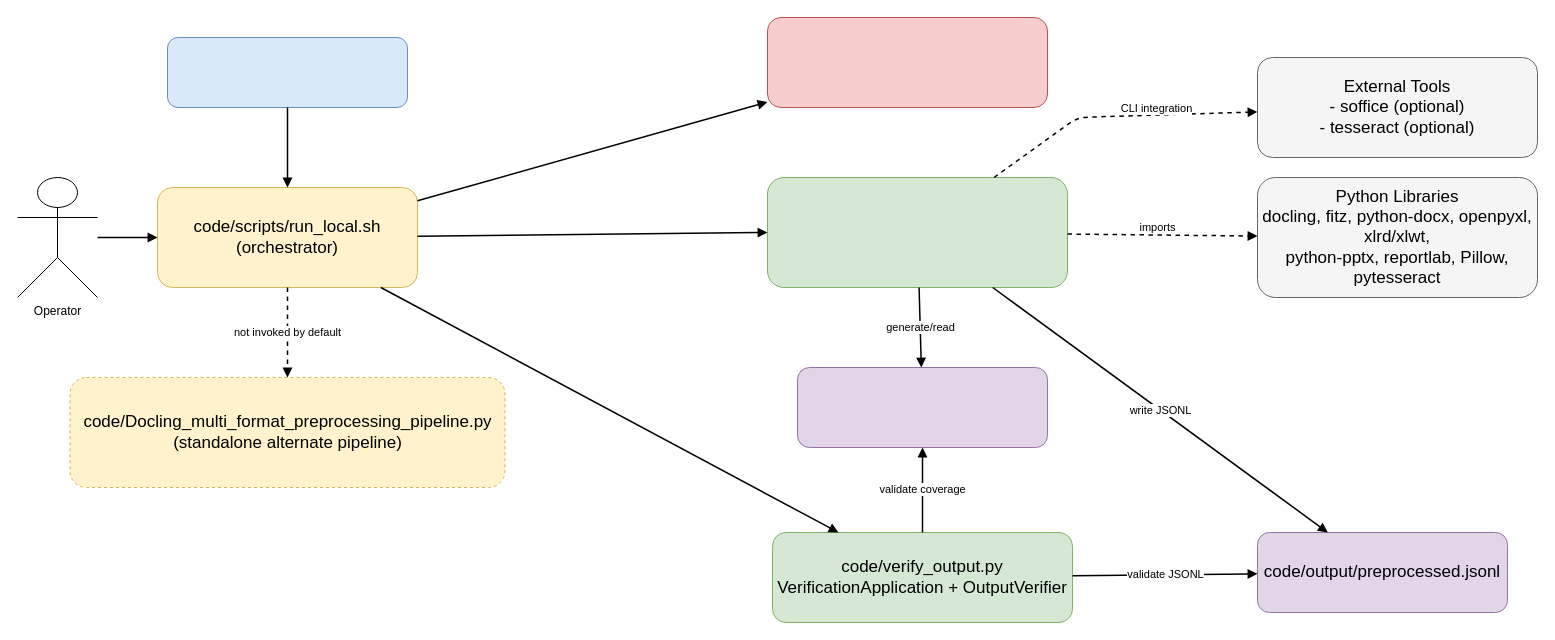
Image size: 1555x640. Some labels were removed from this diagram. The shapes that lost their labels are listed below. From the top down, each one's box as (x1, y1, x2, y2) in pixels, then its label:
(166, 36, 408, 108): .env / environment variables
(766, 16, 1048, 108): Python 3.12 + venv + pip code/.venv
(766, 176, 1068, 288): code/preprocess_app.py PreprocessApplication + DocumentPreprocessor
(796, 366, 1048, 448): code/examples/ input + generated samples
